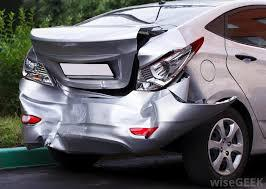boot-dent: (35, 18, 158, 81)
rear-bumper-dent: (35, 97, 151, 147)
